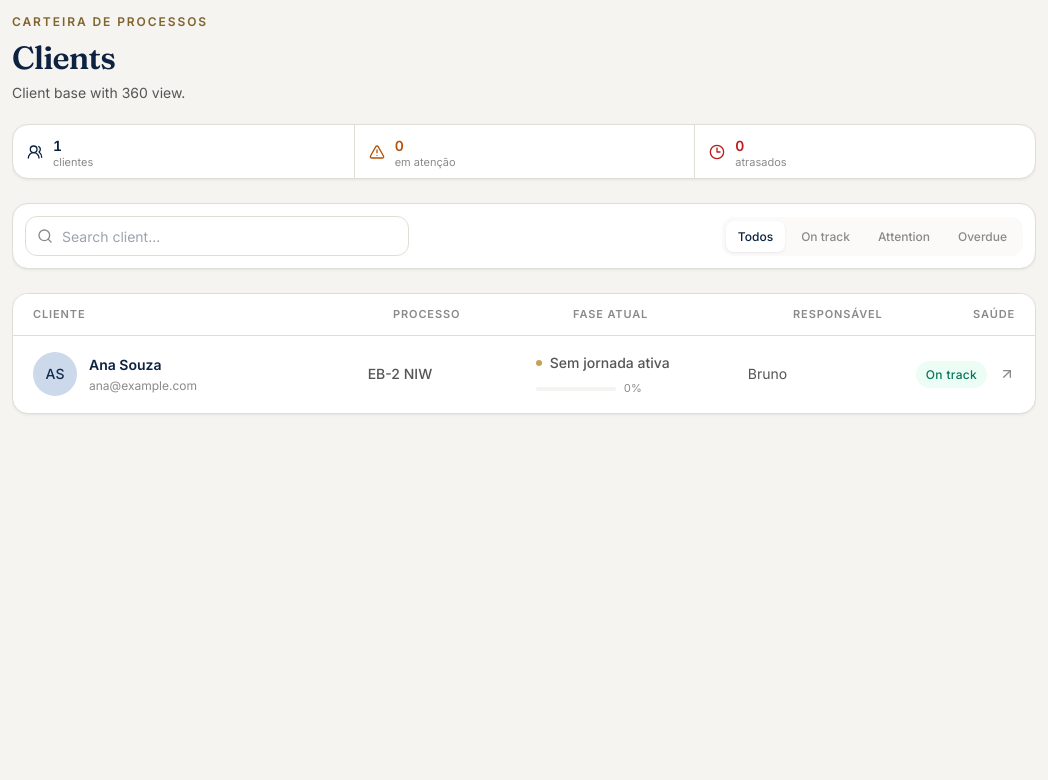
Test: Clientes360RealPage — cabeçalho operacional (T036-041) › FR-013: cliente sem contrato ativo mostra o selo de cadastro incompleto
Click the button "Ana Souza": x=55, y=374 [13,336,1035,413]
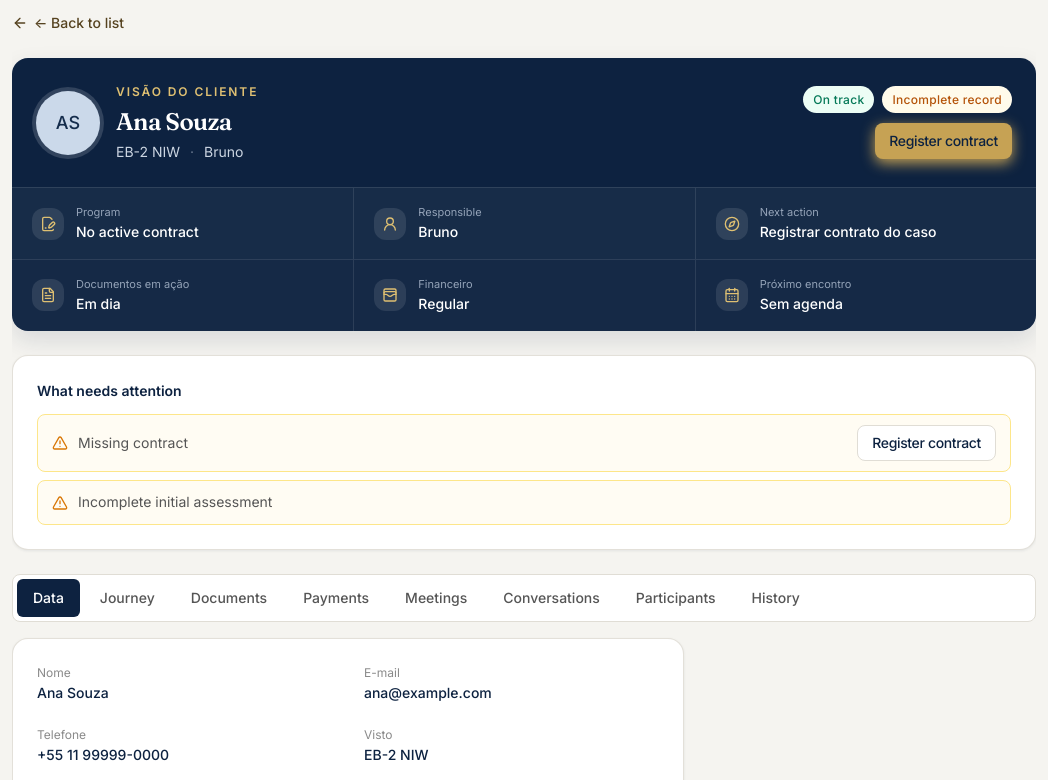
Now the text "Incomplete record" is shown, box [882,86,1012,113]
